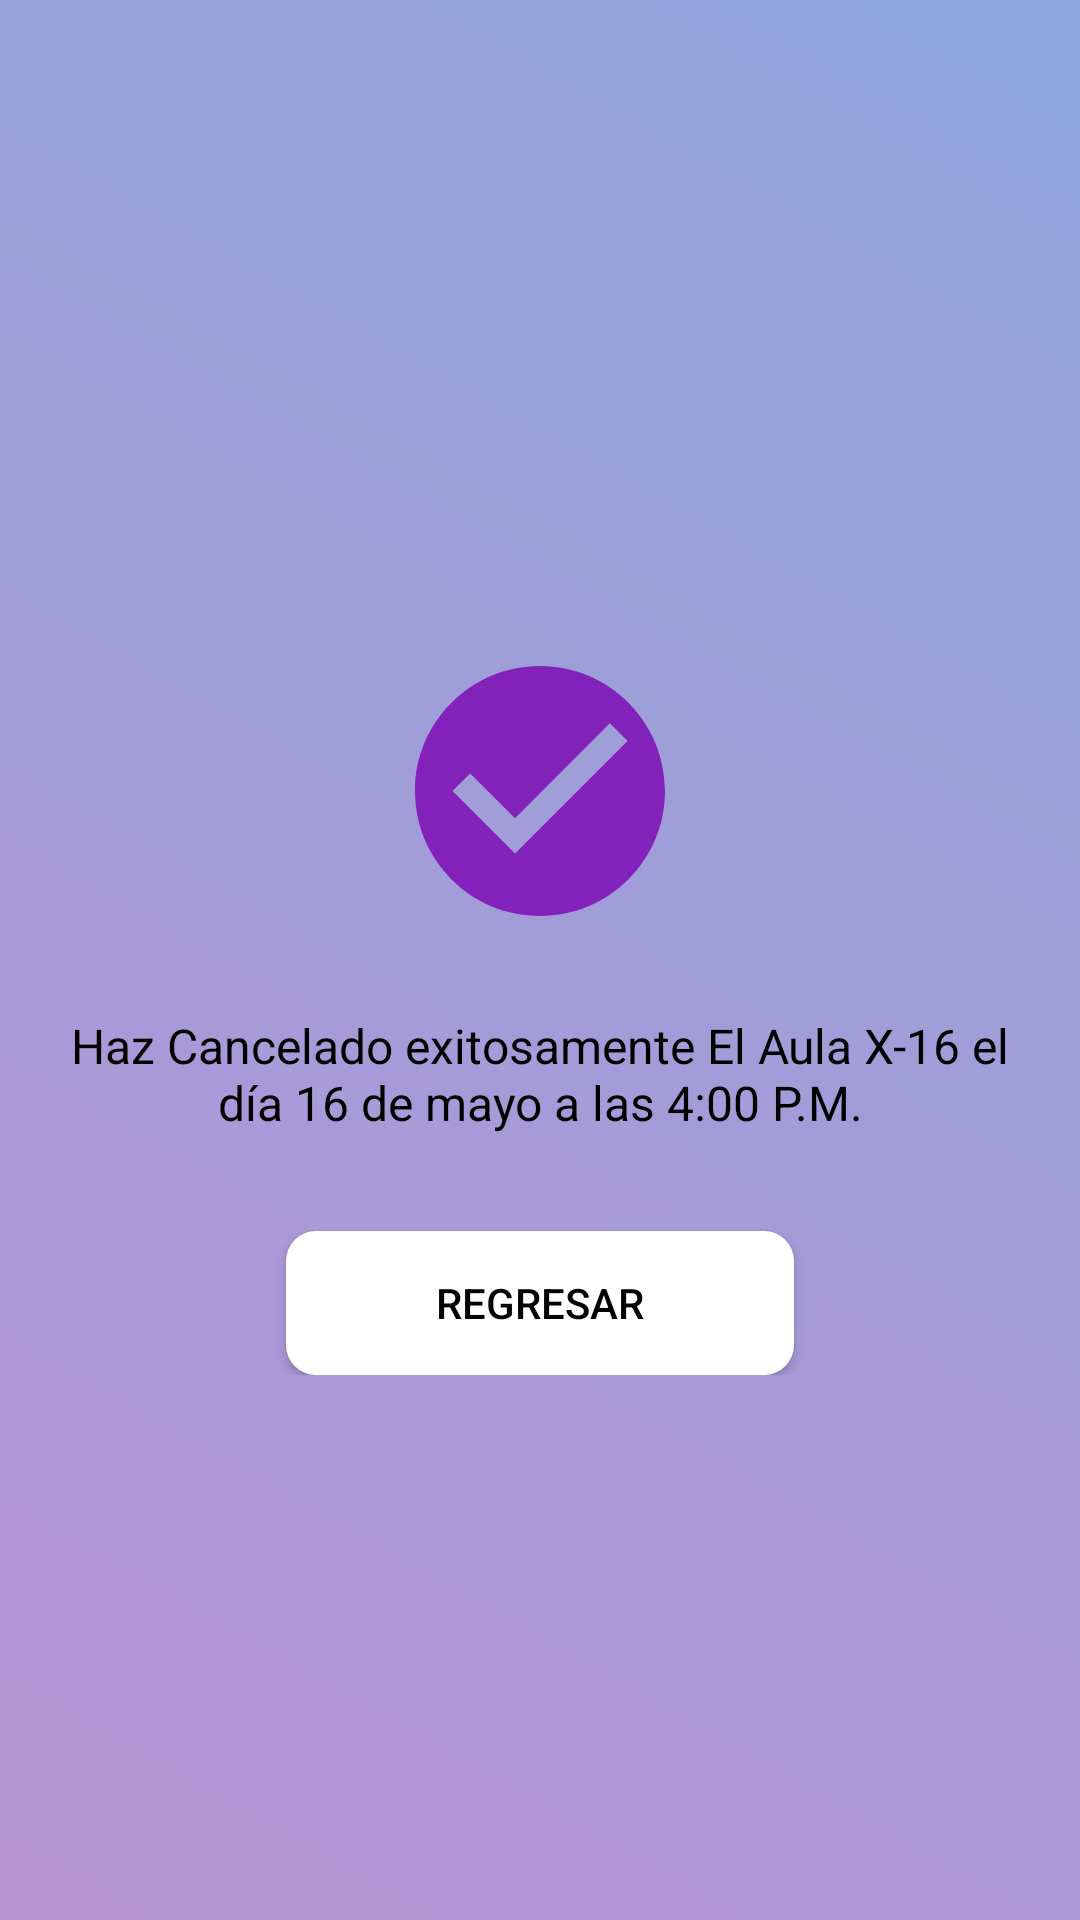

Named icons in this screenshot (1080 × 1920) and their centers, (x,y):
Éxito: (540,791)
